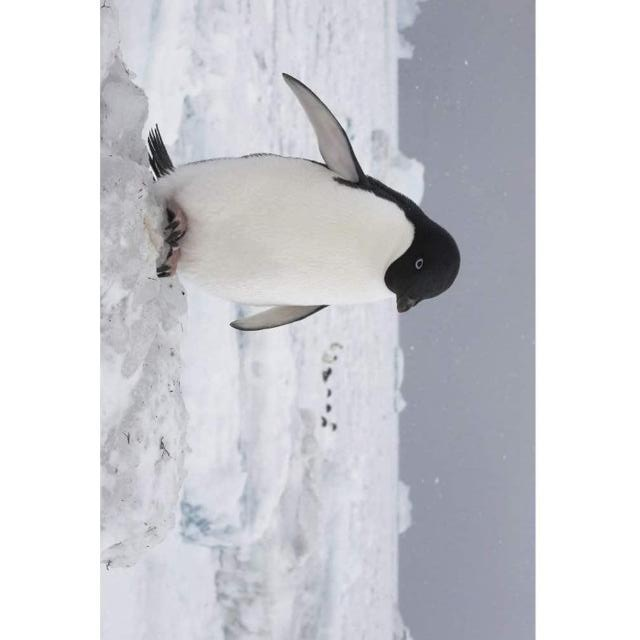penguin: (145, 70, 464, 334)
